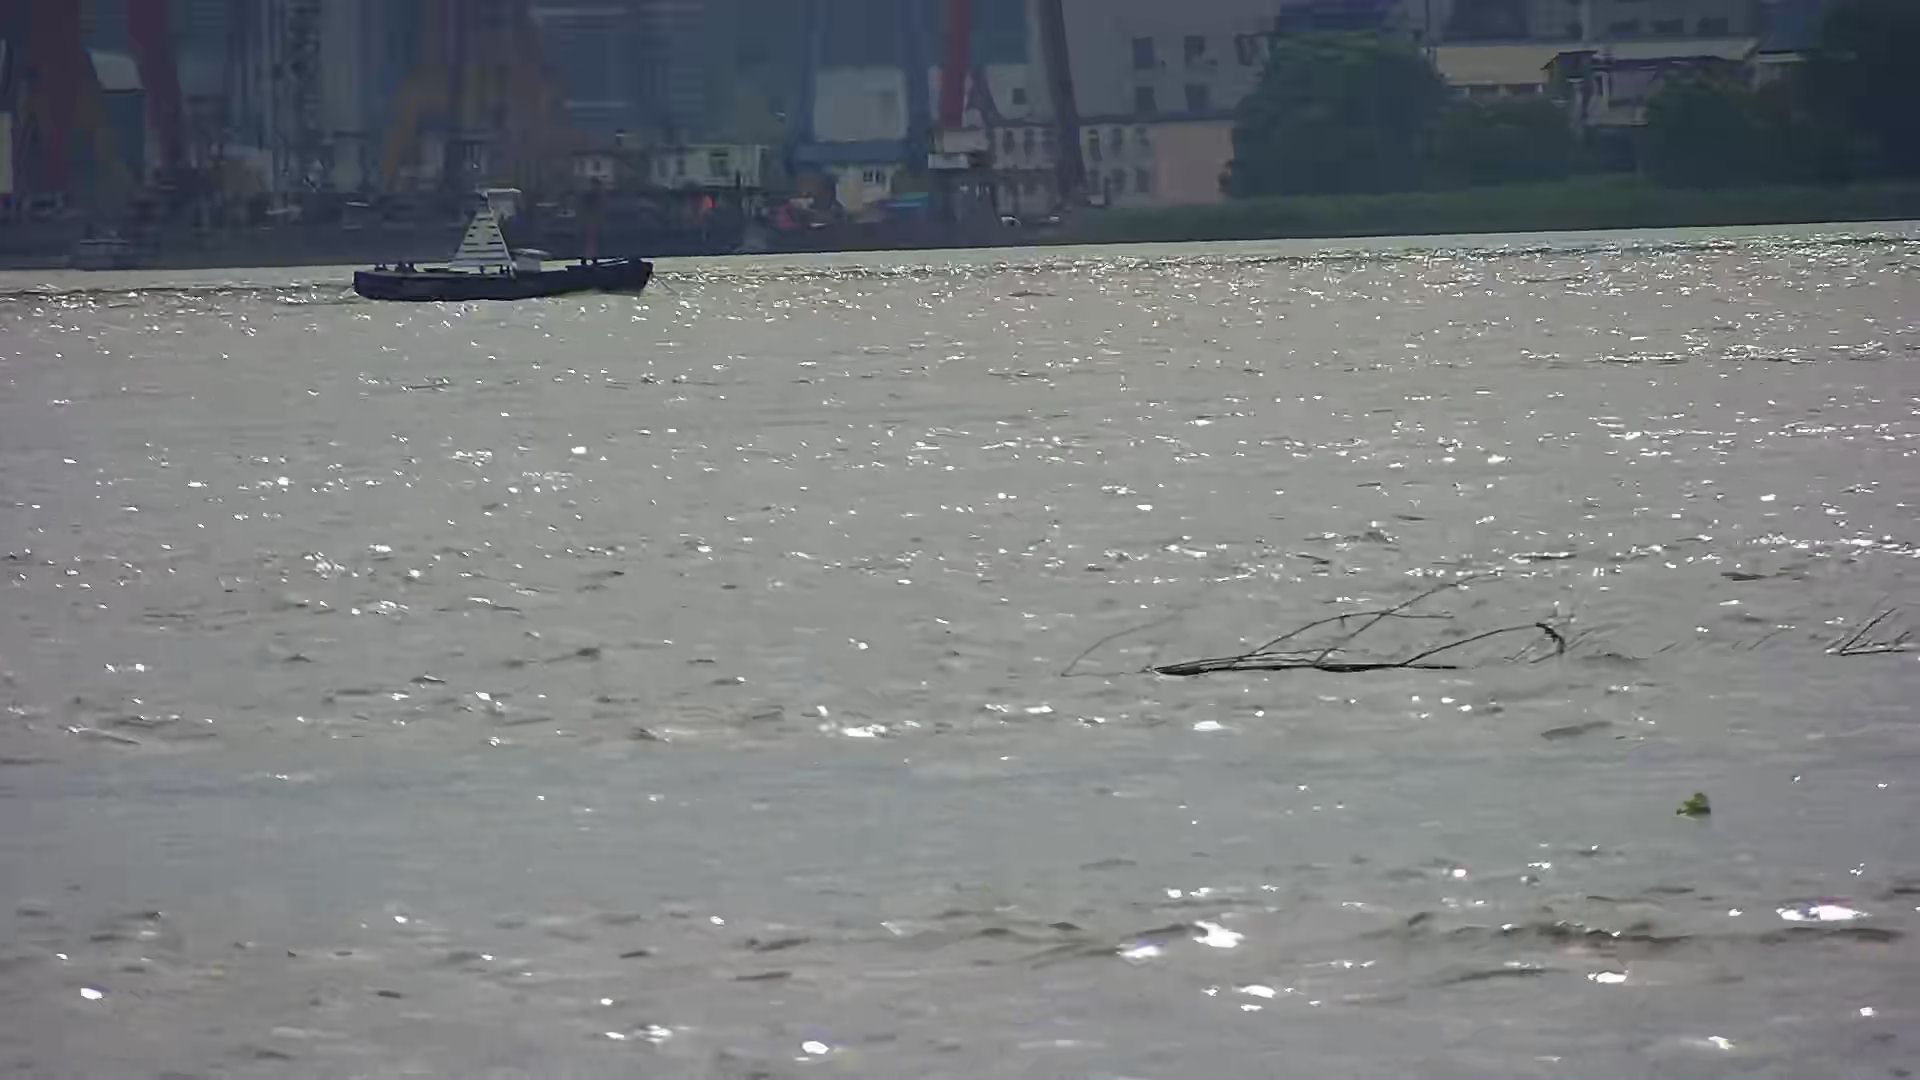boat: (356, 196, 659, 303)
rubbish: (1058, 593, 1576, 678), (1811, 601, 1920, 659)
